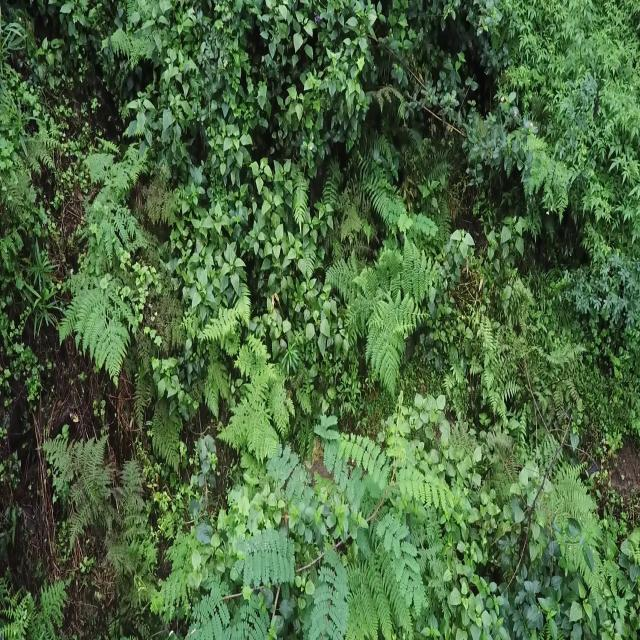Mysore-Thorn-Weed: (188, 398, 459, 640)
